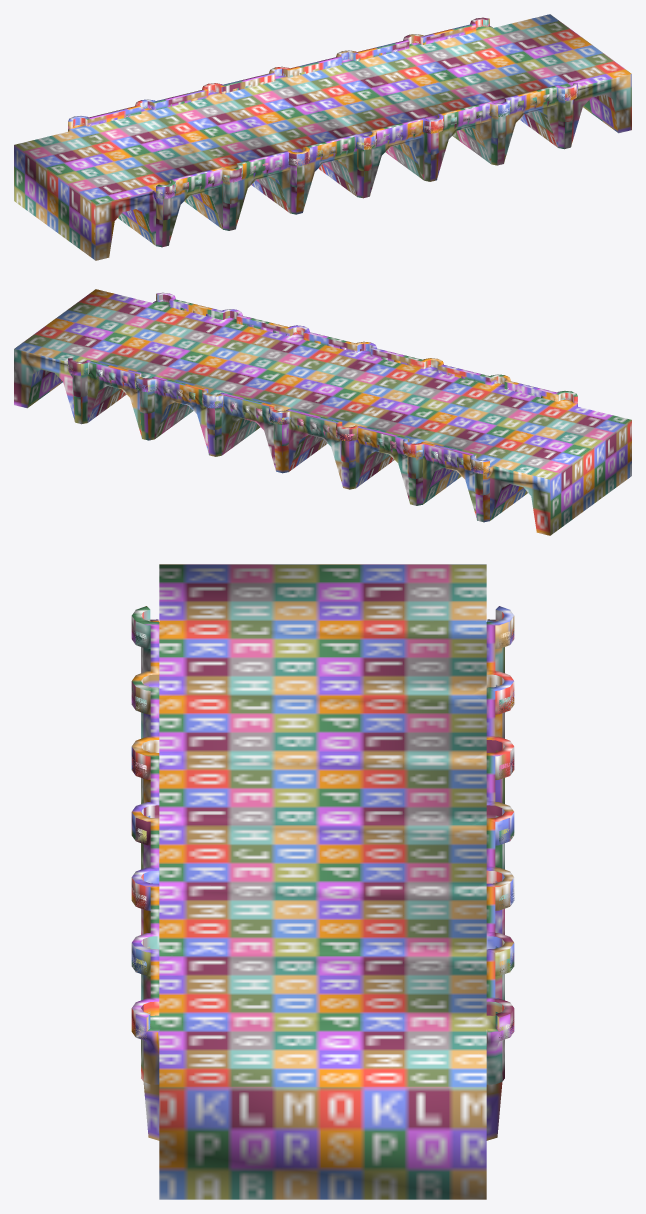
The model's file is bridge.obj.
3 views of the same model, one above another, from view 1: azimuth 30°, elevation 25°; view 2: azimuth 150°, elevation 25°; view 3: azimuth 270°, elevation 25° (orthographic). The views are drawn at different scales.
Parts seen in each view (by area): view 1: Cube1; view 2: Cube1; view 3: Cube1.
Boxes of the visible parts, box(x1,y1,x2,y2) form: Cube1: box(14, 14, 631, 260); Cube1: box(14, 289, 631, 535); Cube1: box(131, 564, 514, 1199).
Bounding box in the file's own units: 20 × 2.25 × 6.18.
Materials: 1 (1 with a texture image).
